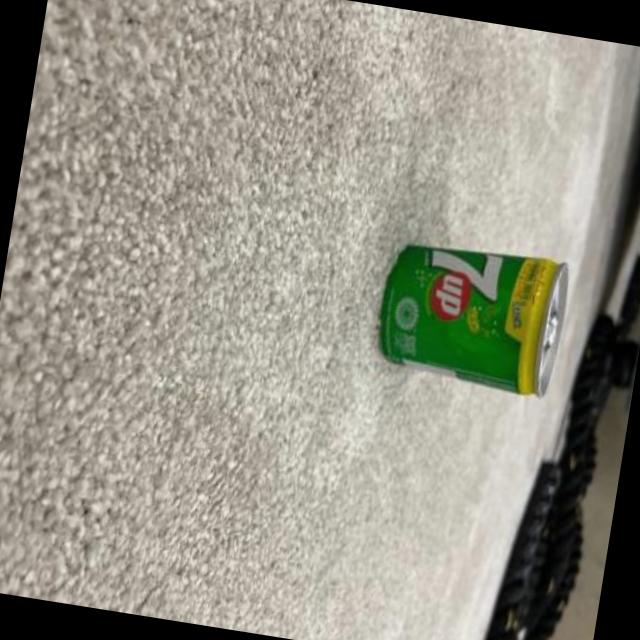metal: (380, 245, 565, 395)
